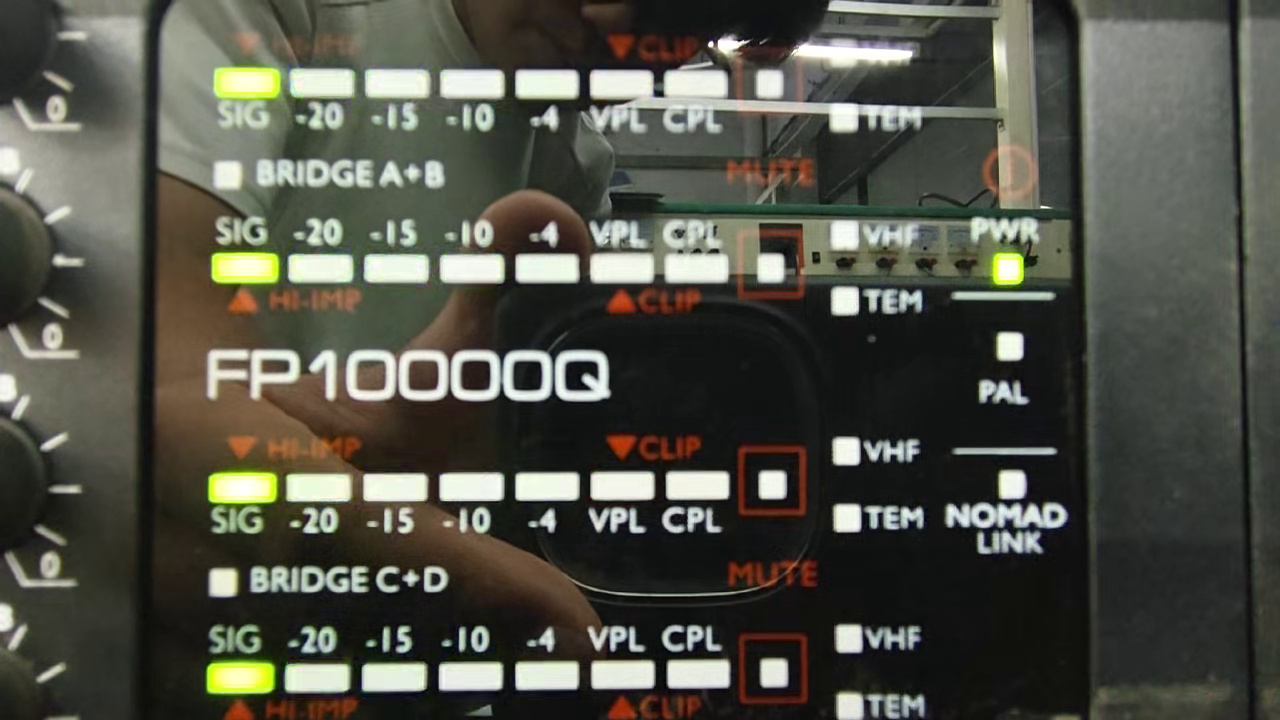FP_CPL: (654, 61, 732, 143), (660, 209, 730, 298), (658, 466, 733, 547), (660, 617, 736, 693)
FP_PWR: (962, 210, 1046, 291)
FP_PWR_area: (954, 136, 1055, 294)
FP_SIG_area: (210, 198, 936, 328), (210, 419, 925, 546), (208, 26, 935, 142), (204, 618, 933, 716), (582, 464, 655, 546)
FP_VPL: (586, 209, 659, 295), (585, 62, 655, 142), (587, 619, 655, 695)
